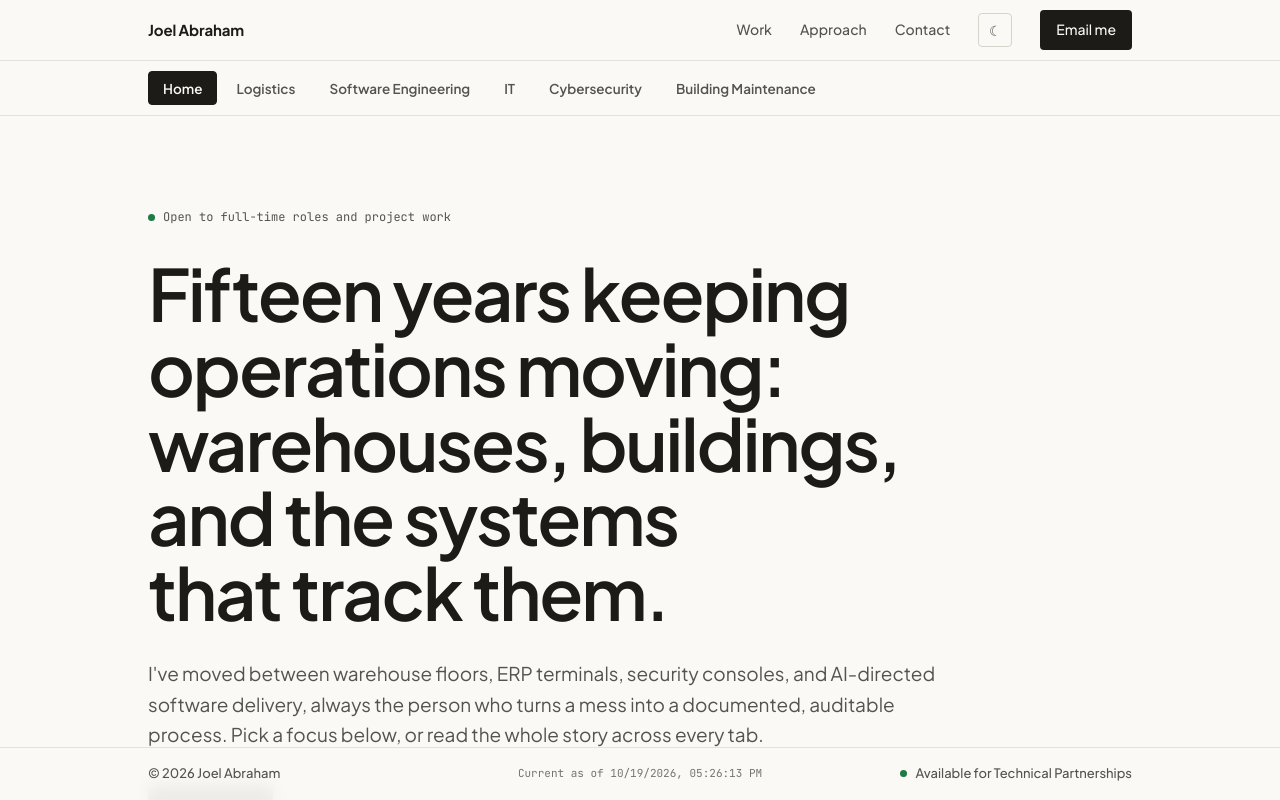
Test case: App › switches to a domain tab and renders its certifications and entries
This screenshot has width=1280, height=800.
Click the button "Cybersecurity" at (596, 88), box [534,71,657,105]
(page scrolled)
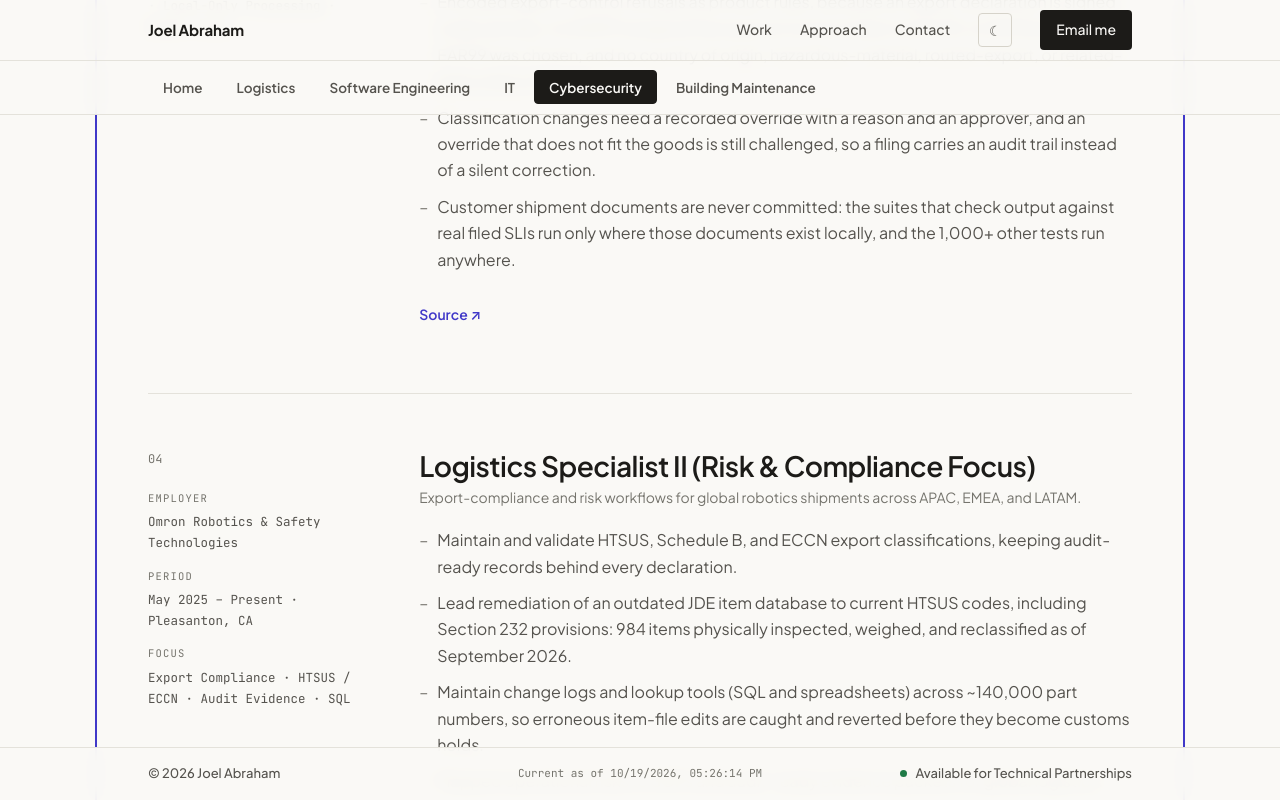
Expected: the heading "Logistics Specialist II (Risk & Compliance Focus)" is shown, [419,450,1132,482]
